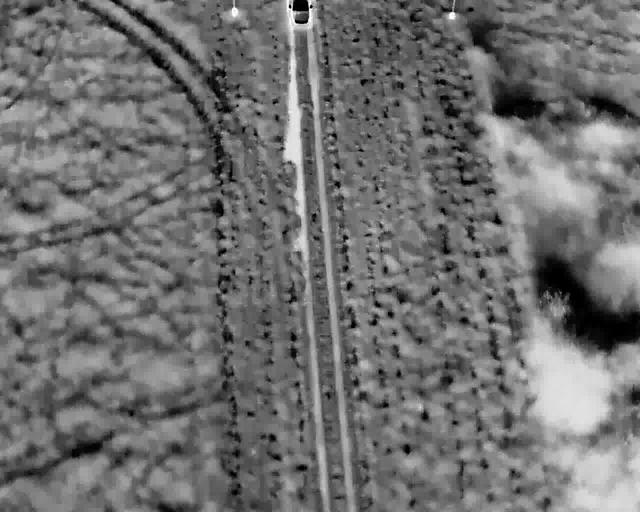car: (285, 0, 314, 27)
